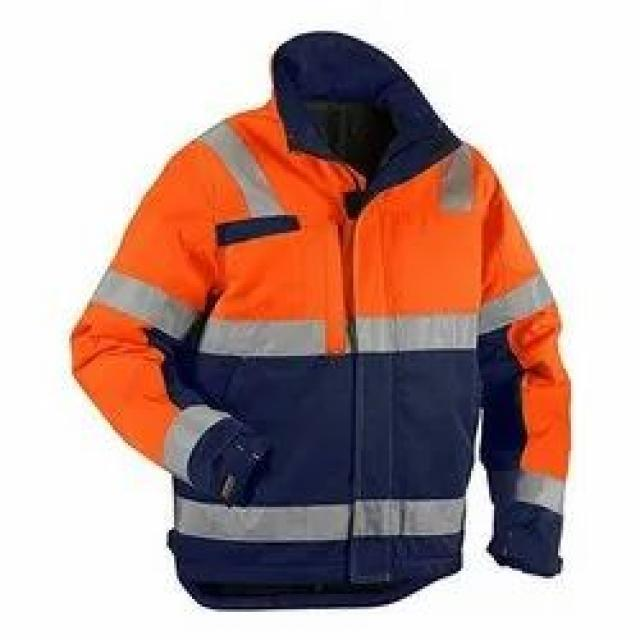reflective_jacket: (33, 46, 573, 629)
